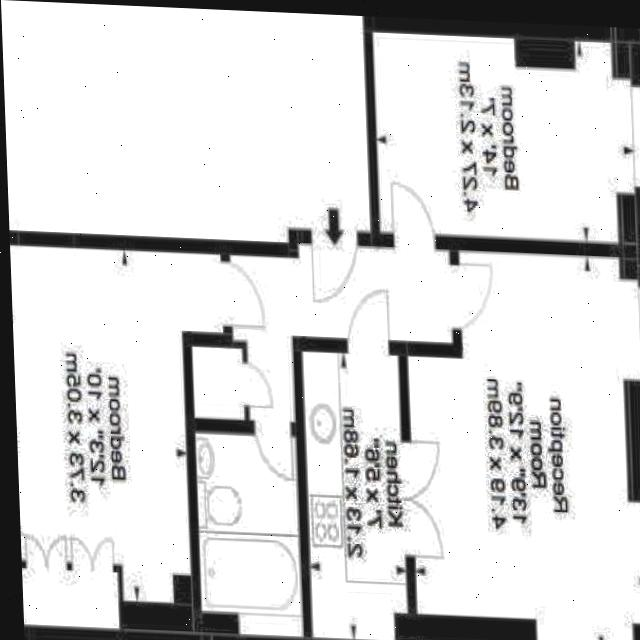room: (403, 244, 630, 640), (9, 240, 229, 630), (364, 32, 640, 244), (229, 241, 454, 424), (301, 348, 407, 640), (195, 429, 302, 639), (191, 345, 244, 421)
